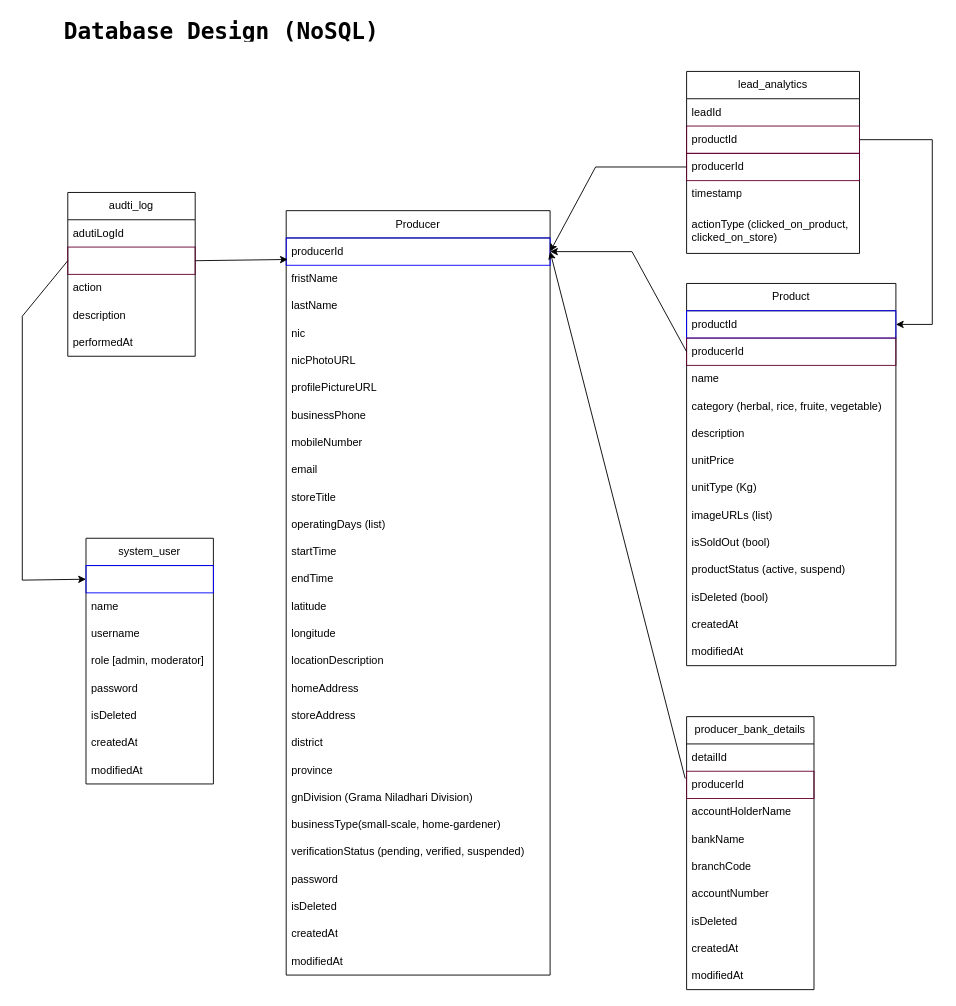
Some shapes in this 956 by 1006 pixel diagram are drawn without their labels. Each missing label, with the centre of its shape:
"actorId" goes at point (131, 260).
"sys_userId" goes at point (149, 579).
